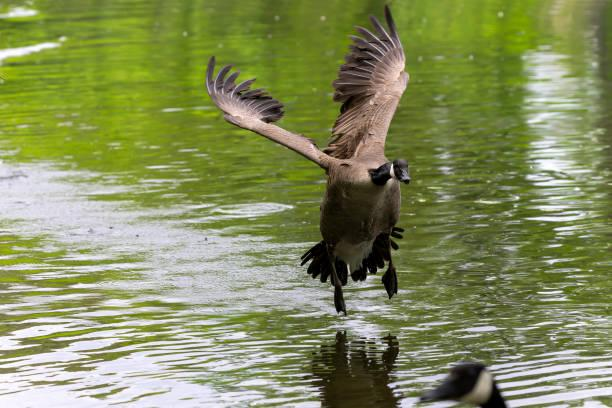Canadian-Goose: (196, 10, 420, 301)
